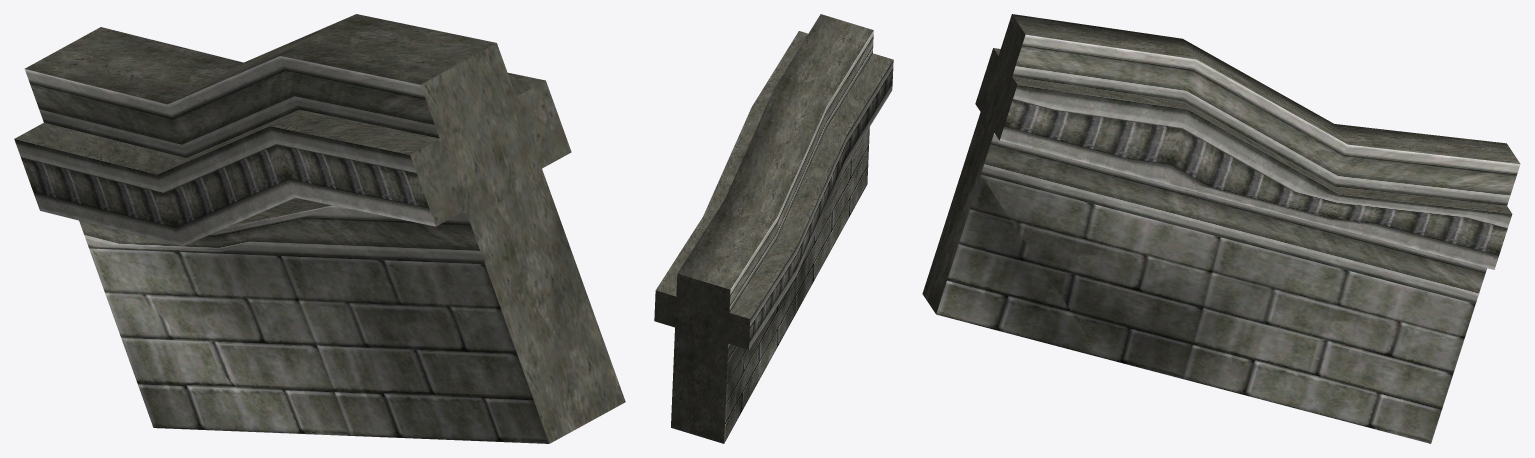
The model's file is DWARF_PALACE_MAINHALL_BALK_DEBREE02.fbx.
3 renders of one model, left to right at view 1: azimuth 30°, elevation 25°; view 2: azimuth 150°, elevation 25°; view 3: azimuth 270°, elevation 25°, orthographic. The views are drawn at different scales.
Visible parts, largest first — view 1: DWARF_PALACE_MAINHALL_BALK_DEBREE02; view 2: DWARF_PALACE_MAINHALL_BALK_DEBREE02; view 3: DWARF_PALACE_MAINHALL_BALK_DEBREE02.
Part boxes in pixels (box(x1,y1,x2,y2)): DWARF_PALACE_MAINHALL_BALK_DEBREE02: box(14, 14, 625, 443); DWARF_PALACE_MAINHALL_BALK_DEBREE02: box(654, 14, 893, 443); DWARF_PALACE_MAINHALL_BALK_DEBREE02: box(922, 14, 1520, 443).
Size of the model in its own units: 14585 by 30897 by 39816.
4 materials, 4 textured.
